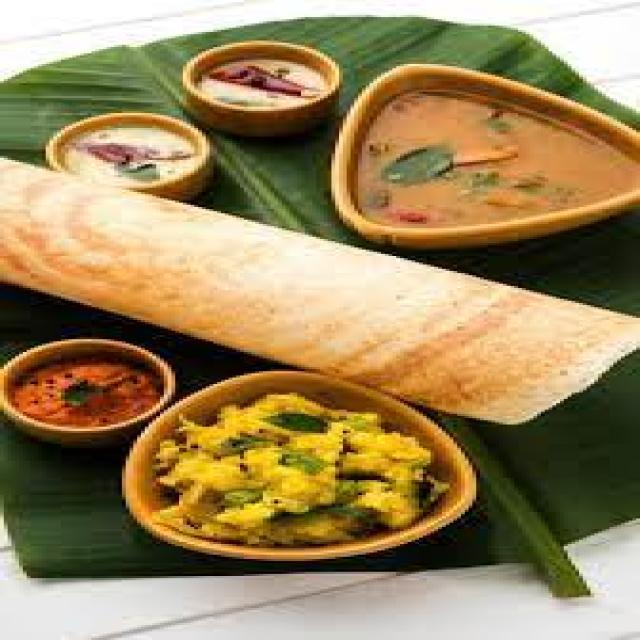dosa: (0, 137, 640, 407)
pickle: (45, 117, 225, 195)
sambar-rasam: (334, 72, 638, 238)
